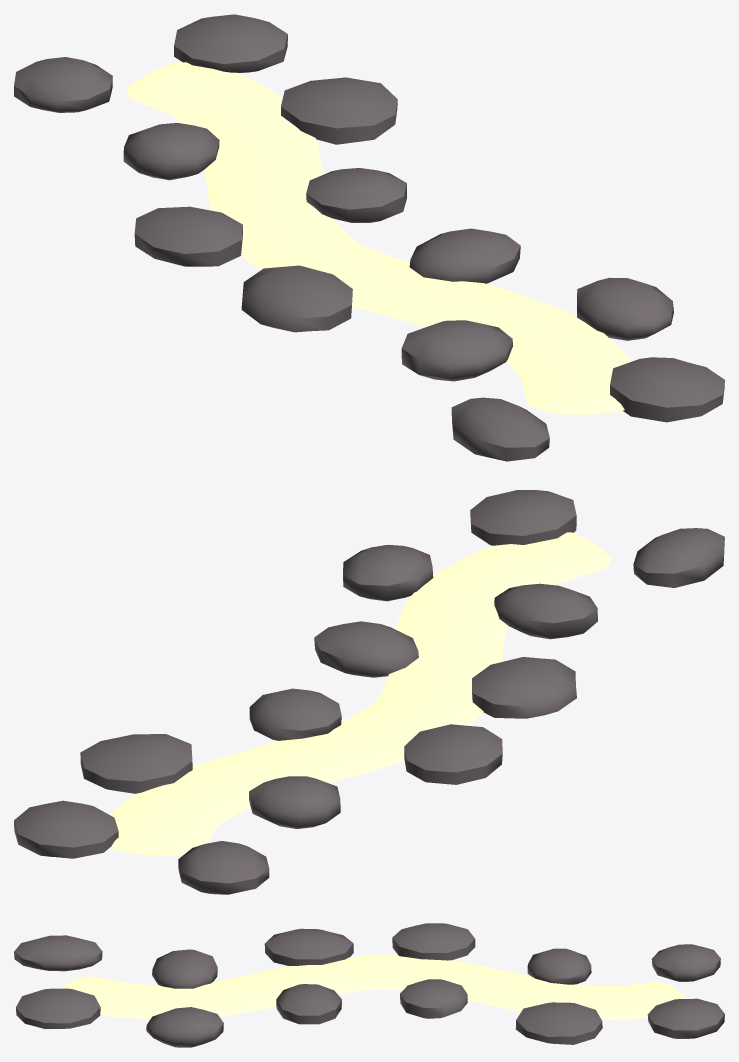
File: ENV_Ember_LavaFissure_I.fbx
3 renders of one model, top to bottom at view 1: azimuth 30°, elevation 25°; view 2: azimuth 150°, elevation 25°; view 3: azimuth 270°, elevation 25°, orthographic. The views are drawn at different scales.
Parts seen in each view (by area): view 1: ENV_Ember_LavaFissure_I; view 2: ENV_Ember_LavaFissure_I; view 3: ENV_Ember_LavaFissure_I.
Part boxes in pixels (x1,y1,x2,y2): ENV_Ember_LavaFissure_I: (14,14,724,461); ENV_Ember_LavaFissure_I: (14,490,724,894); ENV_Ember_LavaFissure_I: (14,923,724,1047).
Bounding box in the file's own units: 1.7 × 0.2048 × 4.53.
